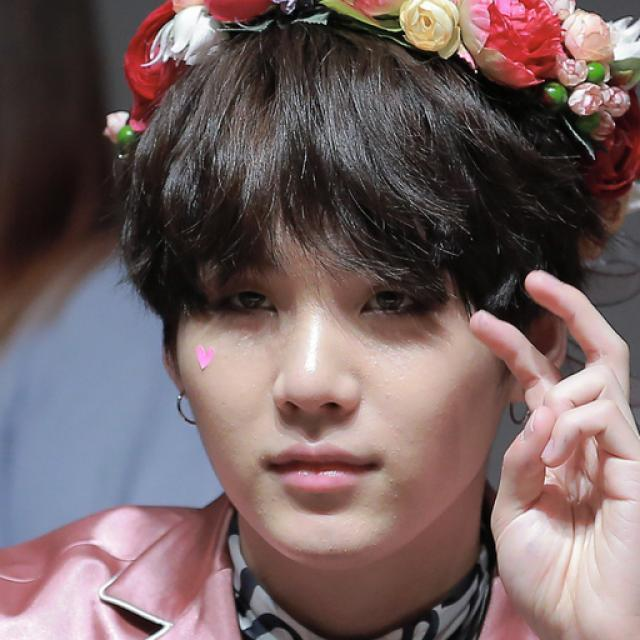neutral: (174, 120, 505, 558)
